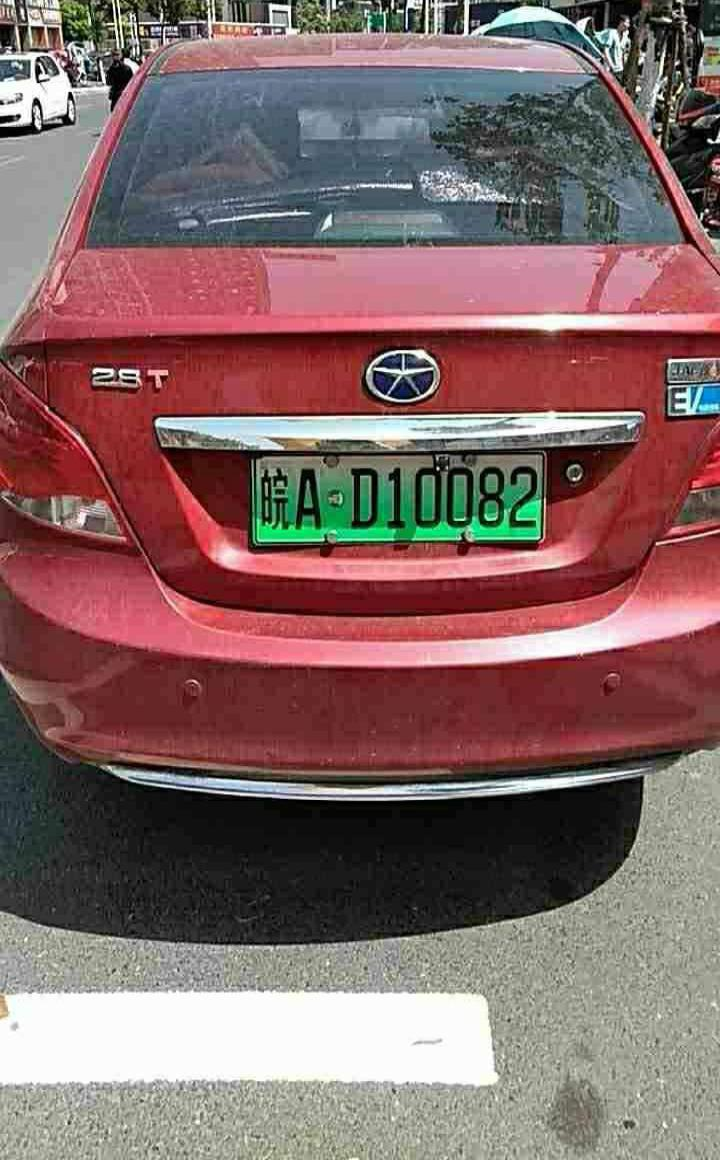car_id: (245, 458, 551, 542)
